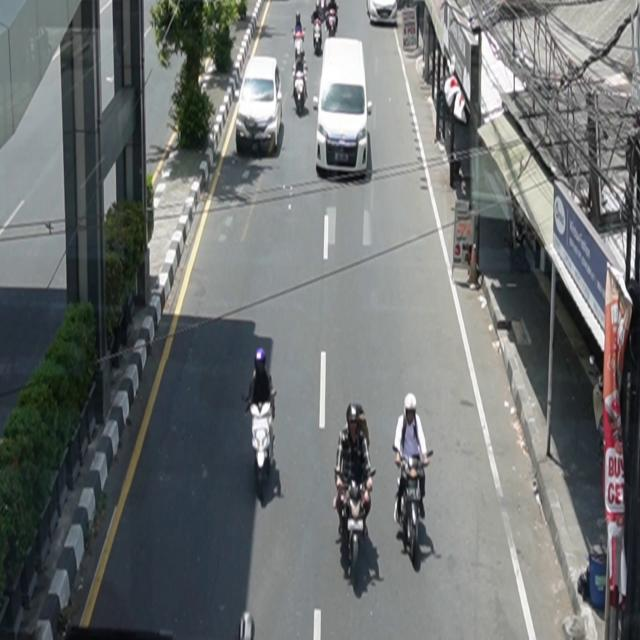car: (314, 38, 374, 180), (236, 56, 283, 156), (367, 1, 398, 26)
